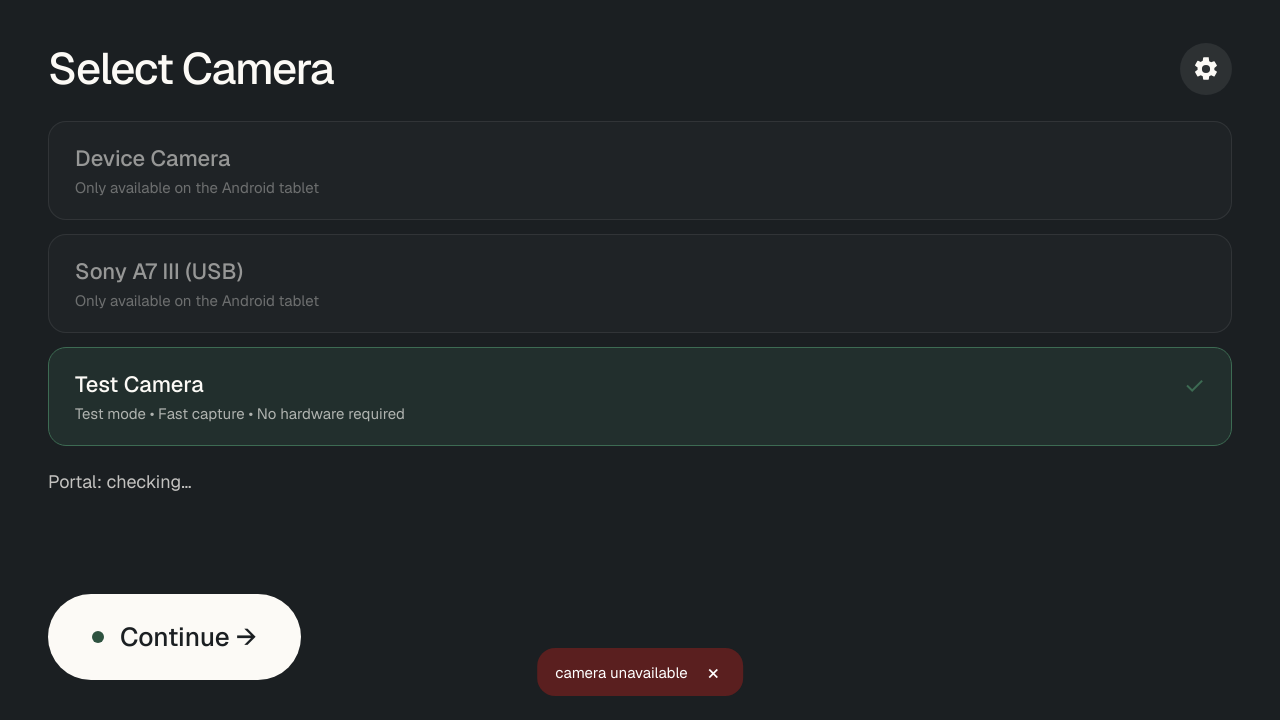
Test case: App › a notice is shown, can be dismissed, and expires on its own
Expected: the message "camera unavailable ×" is shown, [537, 648, 743, 696]
Click the button named "Dismiss" at (713, 672), box [702, 660, 725, 684]
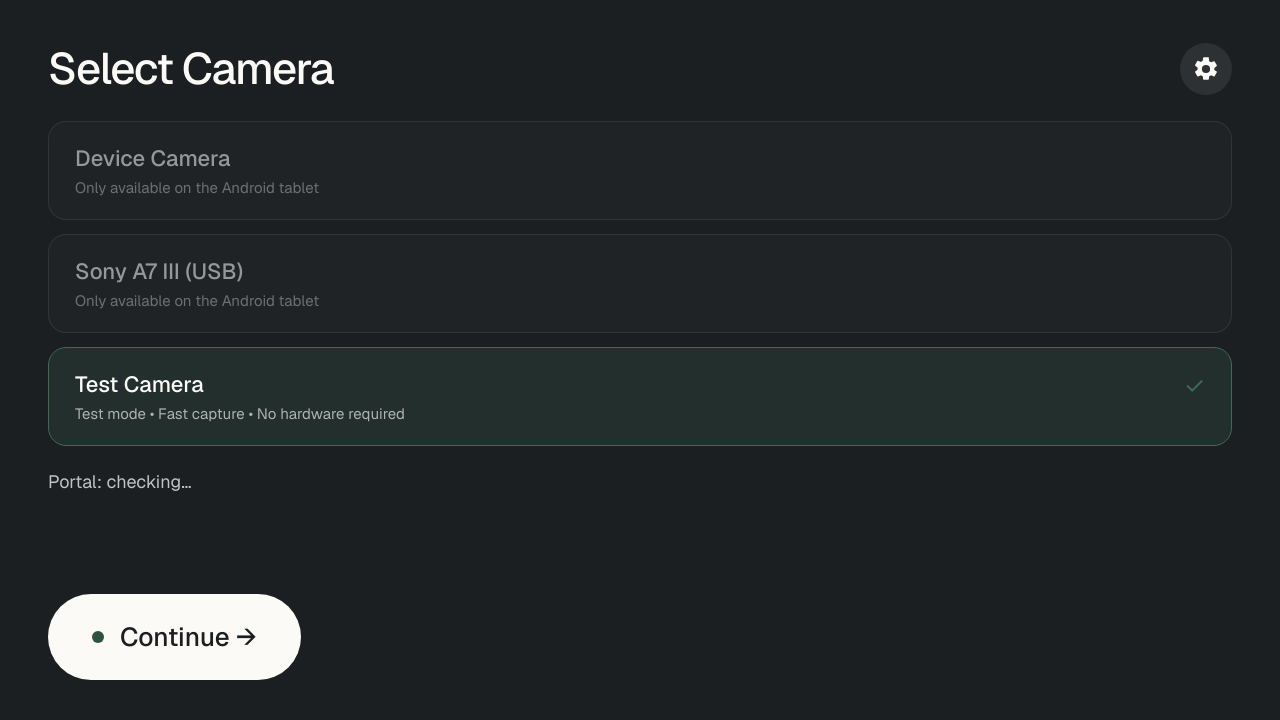
Expected: the message "camera unavailable ×" is gone
